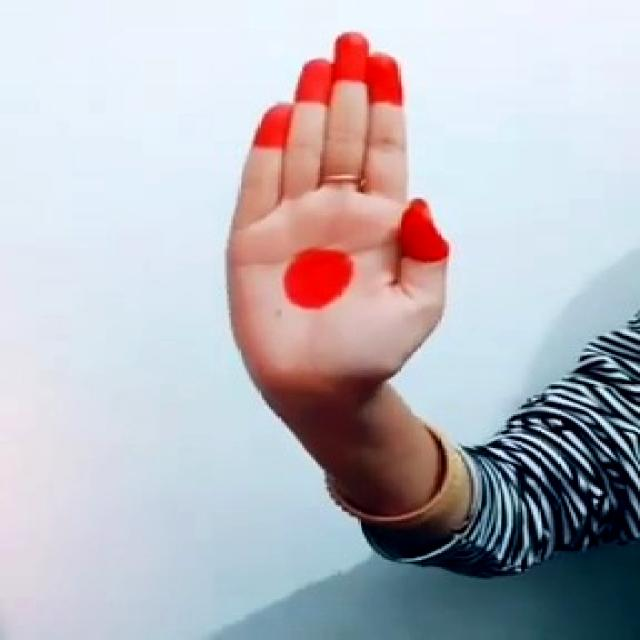Pataka: (188, 34, 494, 397)
bangle: (310, 424, 483, 540)
